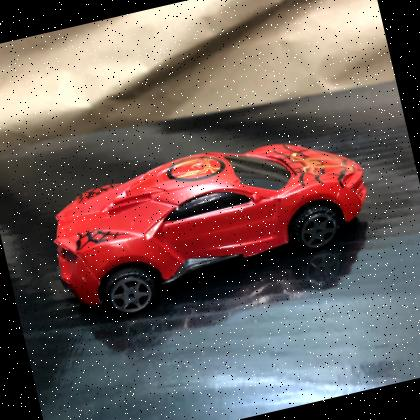Car: (53, 144, 367, 316)
